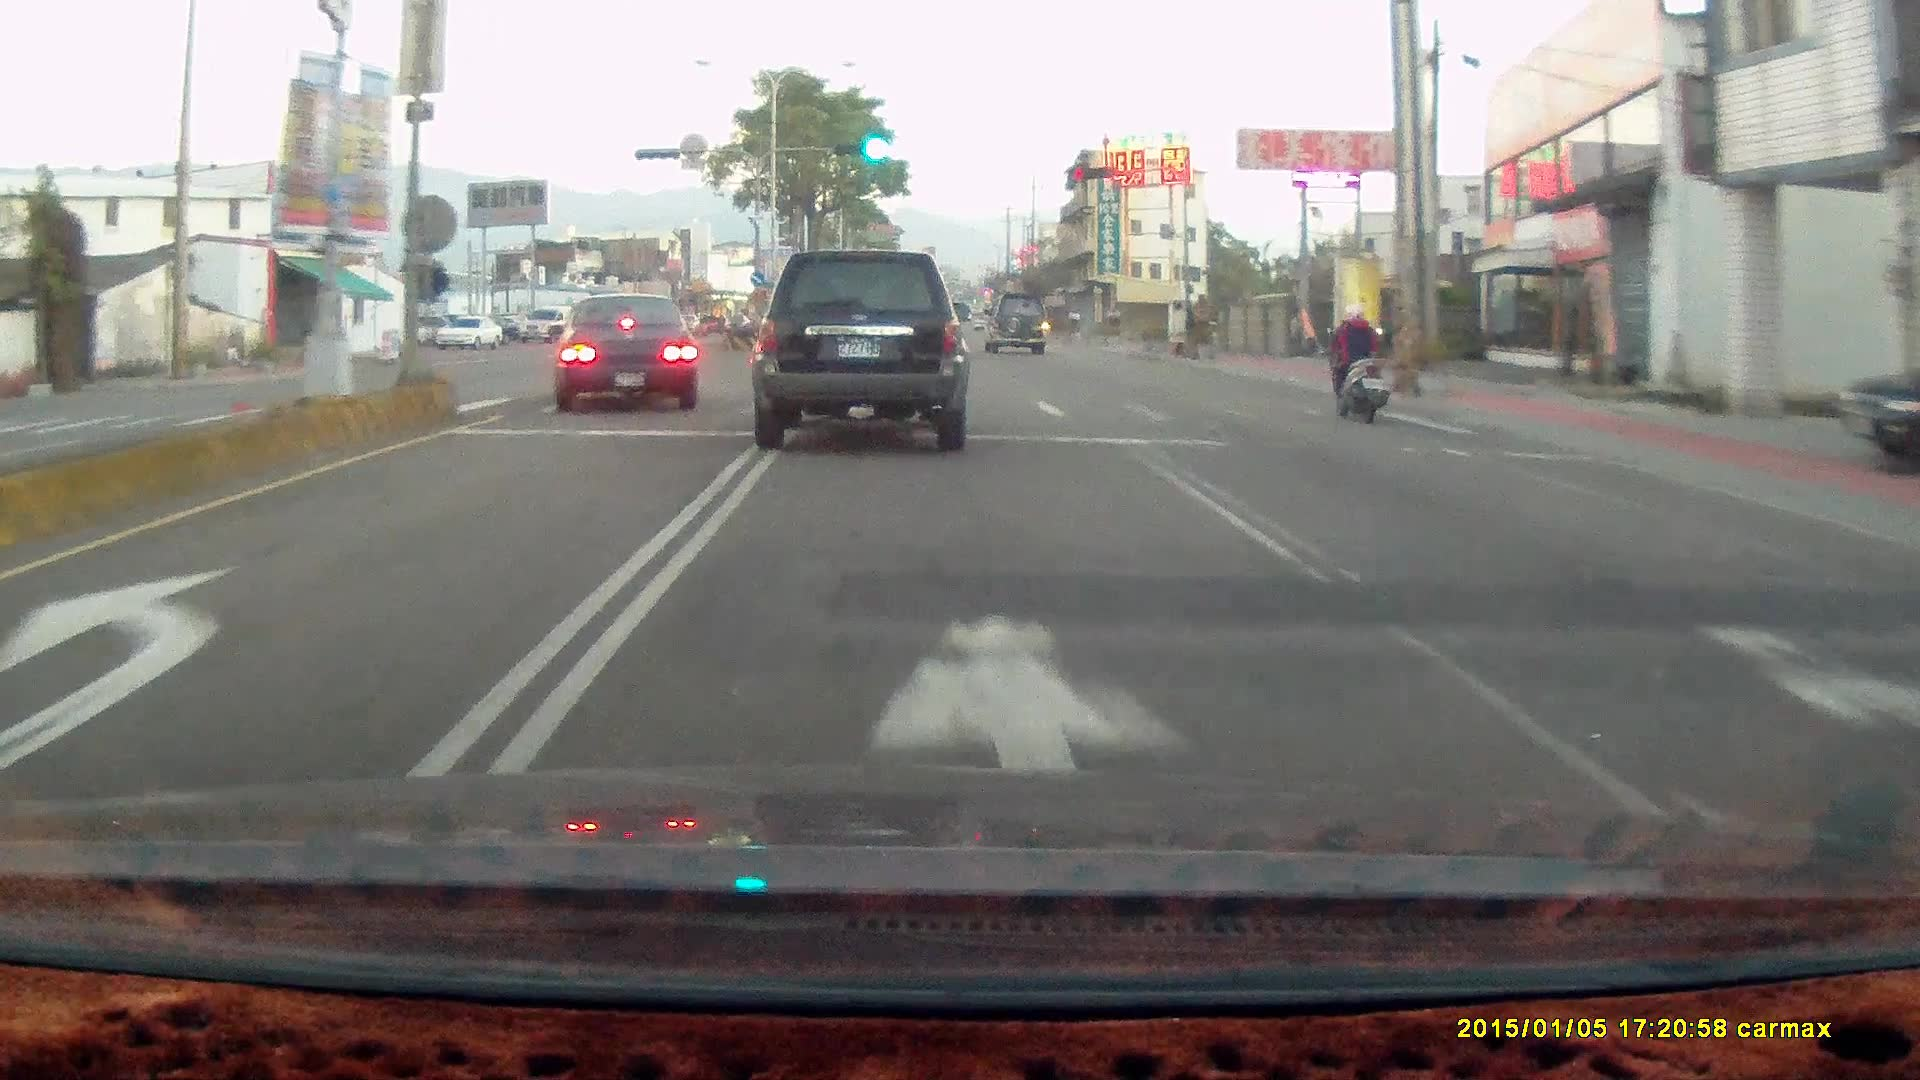rider: (1313, 289, 1405, 437), (1321, 298, 1388, 422)
vehicle: (744, 236, 974, 448), (747, 250, 969, 449), (549, 286, 704, 410), (544, 291, 698, 409), (1833, 352, 1919, 472), (985, 291, 1052, 357), (981, 286, 1048, 351), (434, 311, 503, 347), (518, 306, 583, 342)
